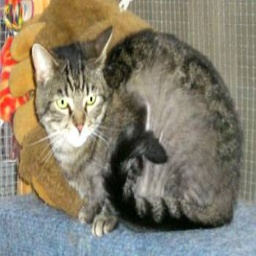cat: (25, 18, 243, 236)
